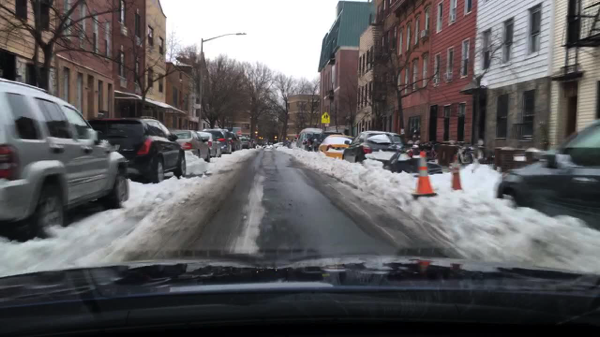bus: (295, 128, 323, 150)
car: (0, 78, 130, 237), (494, 119, 599, 230), (87, 116, 186, 183), (342, 131, 411, 169), (169, 129, 210, 163), (318, 135, 356, 160), (204, 128, 232, 154), (196, 131, 221, 158), (317, 131, 344, 152), (303, 132, 322, 153), (229, 132, 236, 151), (236, 135, 242, 150), (242, 137, 248, 148), (290, 138, 297, 146), (252, 139, 256, 148), (248, 137, 251, 149)
motor: (383, 143, 441, 176)
person: (305, 137, 314, 152)
traffic sign: (321, 111, 330, 124)
